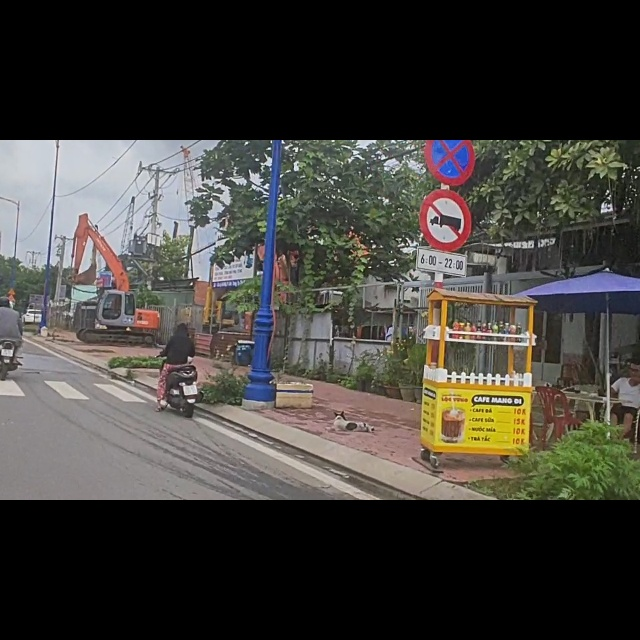bien_cam: (419, 88, 473, 198), (423, 2, 477, 81)
